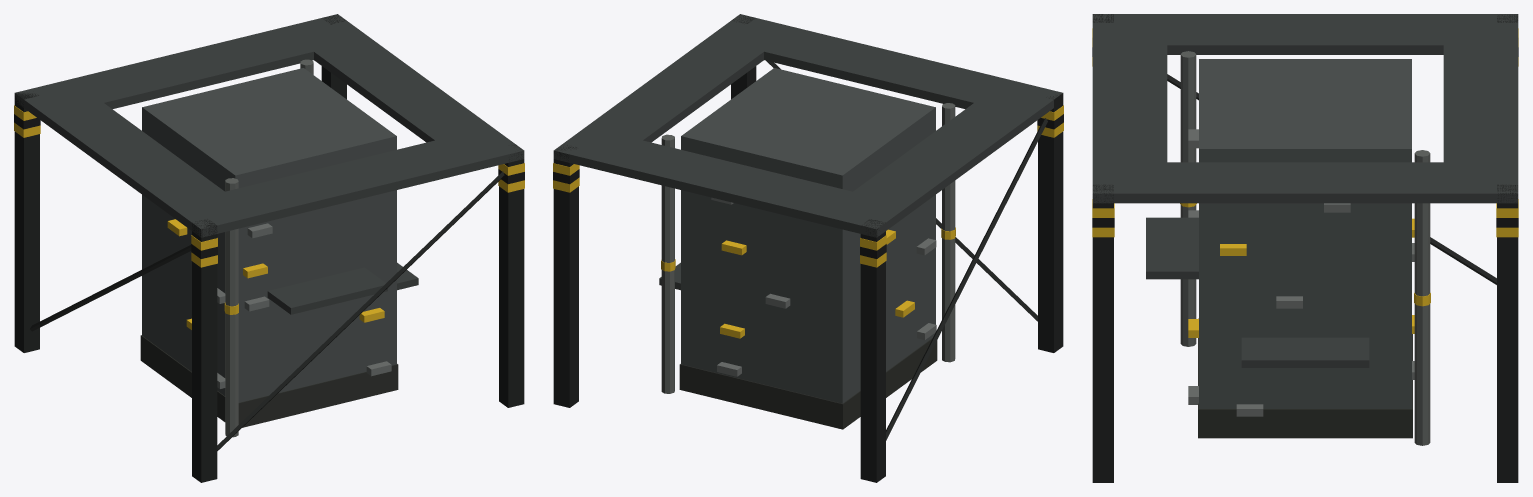
The model's file is tower_section.glb.
The picture shows the model from 3 angles, left to right: view 1: azimuth 30°, elevation 25°; view 2: azimuth 150°, elevation 25°; view 3: azimuth 270°, elevation 25°; orthographic projection. The views are drawn at different scales.
Visible parts, largest first — view 1: surf_climb_tower_section; view 2: surf_climb_tower_section; view 3: surf_climb_tower_section.
Part boxes in pixels (bbox=[...]): surf_climb_tower_section: bbox=[14, 14, 524, 482]; surf_climb_tower_section: bbox=[553, 14, 1063, 482]; surf_climb_tower_section: bbox=[1092, 14, 1518, 482].
Size of the model in its own units: 4.01 by 3 by 4.01.
